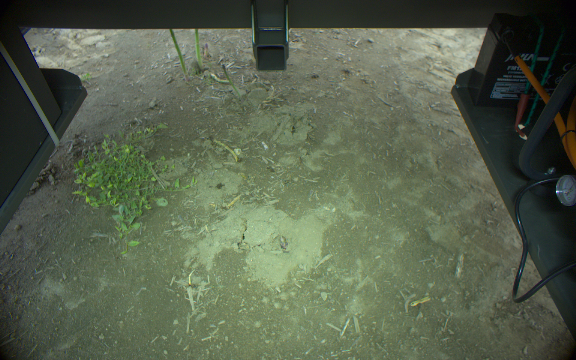aspa: (167, 28, 188, 81), (208, 134, 238, 162), (221, 63, 240, 100), (192, 28, 203, 70)
